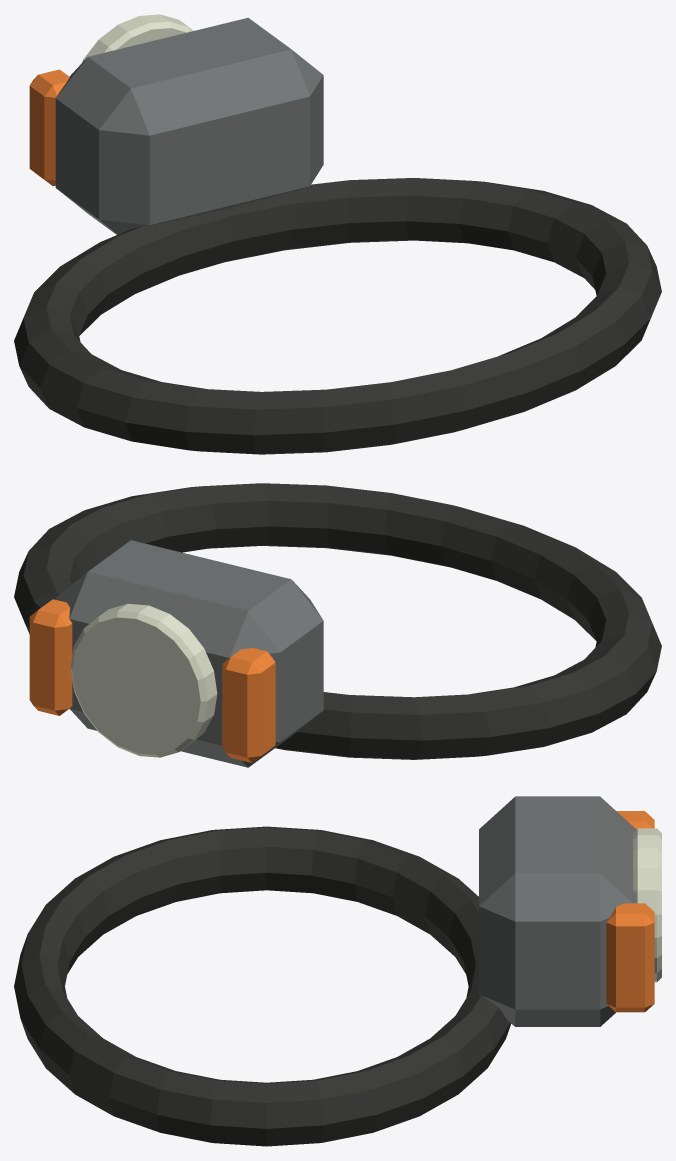
The model's file is item_headlamp.glb.
3 renders of one model, top to bottom at view 1: azimuth 30°, elevation 25°; view 2: azimuth 150°, elevation 25°; view 3: azimuth 270°, elevation 25°, orthographic.
Visible parts, largest first — view 1: item_headlamp; view 2: item_headlamp; view 3: item_headlamp.
Boxes of the visible parts, left/top/right/bottom form: item_headlamp: left=14, top=14, right=661, bottom=454; item_headlamp: left=14, top=483, right=661, bottom=767; item_headlamp: left=14, top=796, right=661, bottom=1146.
Size of the model in its own units: 0.278 by 0.083 by 0.2673.
